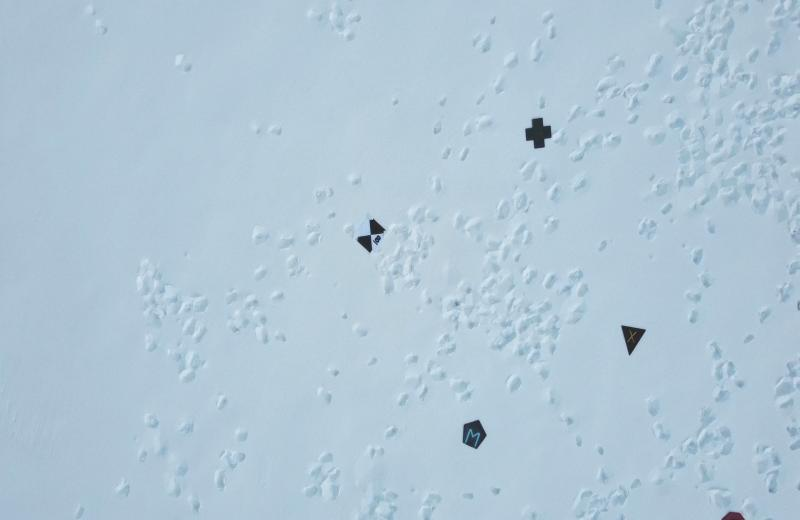Cross: (521, 114, 553, 149)
Pentagon: (457, 417, 490, 452)
Triangle: (614, 317, 648, 358)
